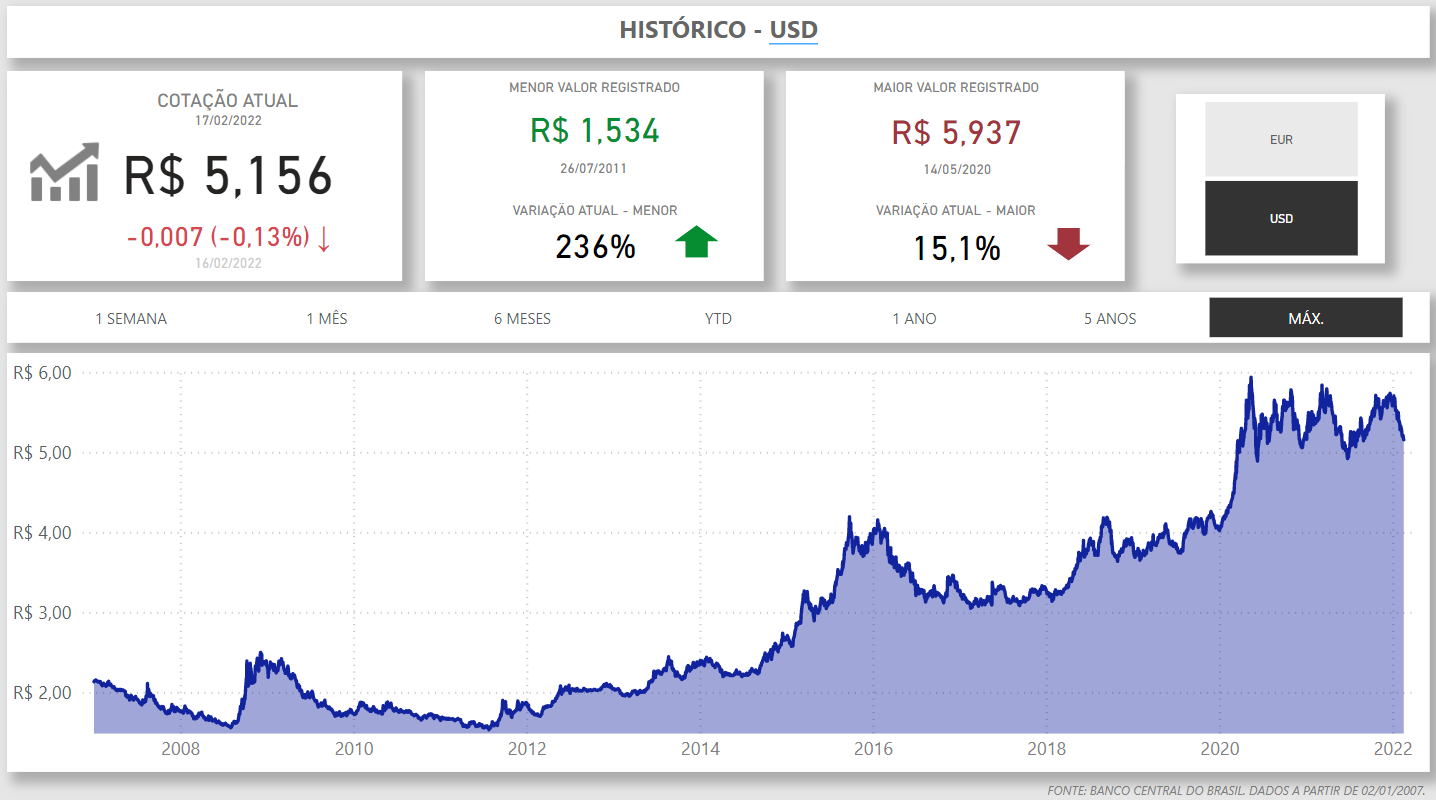

The page's visual inventory and layout, read from the dashboard file:
{"tool":"powerbi","page":{"name":"Cotação","canvas":[1280,720],"ordinal":0},"visuals":[{"type":"shape","box":[9.7,70,350,186],"z":0,"group":"g3"},{"type":"group","id":"g1","title":"Grupo 1","box":[380,70,300,185.5],"z":0,"group":"g4"},{"type":"shape","box":[380,70,300,185.5],"z":0,"group":"g1"},{"type":"group","id":"g2","title":"Grupo 2","box":[700,70,300,186],"z":0,"group":"g5"},{"type":"shape","box":[700,70,300,186],"z":0,"group":"g2"},{"type":"textbox","box":[899.8,692.5,371.1,27.5],"z":0},{"type":"textbox","box":[9.7,12.4,1260.2,46.1],"z":1000},{"type":"card","title":"MENOR VALOR REGISTRADO","fields":{"Values":["ftDotacaoUSD.Valor_minimo"]},"box":[382.7,78,295,71.7],"z":1000,"group":"g1"},{"type":"card","title":"MAIOR VALOR REGISTRADO","fields":{"Values":["ftDotacaoUSD.Valor_maximo"]},"box":[701.3,78,297.6,75.3],"z":1000,"group":"g2"},{"type":"card","title":"COTAÇÃO ATUAL","fields":{"Values":["ftDotacaoUSD.Valor_atual"]},"box":[53.3,86,304.6,121.3],"z":1000,"group":"g3"},{"type":"shape","box":[600.8,206.3,39.9,29.2],"z":1000,"group":"g4"},{"type":"shape","box":[929.8,209,39.9,29.2],"z":1000,"group":"g5"},{"type":"group","id":"g3","title":"Grupo 3","box":[9.7,70,350,186],"z":2000},{"type":"card","fields":{"Values":["ftDotacaoUSD.Data_valor_minimo"]},"box":[385.3,139.1,288.3,37.2],"z":2000,"group":"g1"},{"type":"card","fields":{"Values":["Medidas.Variacao_dia_anterior"]},"box":[53.1,186.9,304.6,58.5],"z":2000,"group":"g3"},{"type":"card","title":"VARIAÇÃO ATUAL - MAIOR","fields":{"Values":["ftDotacaoUSD.Variacao_max_atual"]},"box":[703.8,186.9,293.6,62],"z":2000,"group":"g2"},{"type":"group","id":"g4","title":"Grupo 4","box":[380,70,300,186],"z":3000},{"type":"card","fields":{"Values":["ftCotacaoUSD.Data_valor_maximo"]},"box":[704,140.8,293.6,34.5],"z":3000,"group":"g2"},{"type":"card","title":"VARIAÇÃO ATUAL - MENOR","fields":{"Values":["ftDotacaoUSD.Variacao_atual_min"]},"box":[381.4,186.9,297.6,59.3],"z":3000,"group":"g1"},{"type":"group","id":"g5","title":"Grupo 5","box":[700,70,300,186],"z":4000},{"type":"slicer","fields":{"Values":["Periodos.Periodo"]},"box":[9.7,265.7,1260.2,45.2],"z":5000},{"type":"areaChart","title":"EVOLUÇÃO DO DÓLAR AMERICANO","fields":{"Y":["Sum(ftCotacao.Valor)"],"Category":["dimCalendario.Data.Variation.Hierarquia de datas.Ano","dimCalendario.Data.Variation.Hierarquia de datas.Trimestre","dimCalendario.Data.Variation.Hierarquia de datas.Mês","dimCalendario.Data.Variation.Hierarquia de datas.Dia"]},"box":[9.7,319.7,1260.2,371.1],"z":6000},{"type":"image","box":[22.1,112.5,77,93.9],"z":7000},{"type":"card","fields":{"Values":["Medidas.Data_atual"]},"box":[53,98.2,304.5,34.4],"z":8000},{"type":"card","fields":{"Values":["Medidas.Data_anterior"]},"box":[53,227.9,304.5,24.6],"z":9000},{"type":"slicer","title":"MOEDA","fields":{"Values":["ftCotacao.Ticker"]},"box":[1045,90.4,184.7,150.3],"z":10000}]}

Visuals, with their boxes in screenshot pixels (x1, y1, x2, y2), scaled from the page's 1280x720 canvas onto the 1436x800 screenshot:
shape: [11, 78, 404, 284]
"Grupo 1" group: [426, 78, 763, 284]
shape: [426, 78, 763, 284]
"Grupo 2" group: [785, 78, 1122, 284]
shape: [785, 78, 1122, 284]
textbox: [1009, 769, 1426, 799]
textbox: [11, 14, 1425, 65]
"MENOR VALOR REGISTRADO" card: [429, 87, 760, 166]
"MAIOR VALOR REGISTRADO" card: [787, 87, 1121, 170]
"COTAÇÃO ATUAL" card: [60, 96, 402, 230]
shape: [674, 229, 719, 262]
shape: [1043, 232, 1088, 265]
"Grupo 3" group: [11, 78, 404, 284]
card - ftDotacaoUSD.Data_valor_minimo: [432, 155, 756, 196]
card - Medidas.Variacao_dia_anterior: [60, 208, 401, 273]
"VARIAÇÃO ATUAL - MAIOR" card: [790, 208, 1119, 277]
"Grupo 4" group: [426, 78, 763, 284]
card - ftCotacaoUSD.Data_valor_maximo: [790, 156, 1119, 195]
"VARIAÇÃO ATUAL - MENOR" card: [428, 208, 762, 274]
"Grupo 5" group: [785, 78, 1122, 284]
slicer - Periodos.Periodo: [11, 295, 1425, 345]
"EVOLUÇÃO DO DÓLAR AMERICANO" areaChart: [11, 355, 1425, 768]
image: [25, 125, 111, 229]
card - Medidas.Data_atual: [59, 109, 401, 147]
card - Medidas.Data_anterior: [59, 253, 401, 281]
"MOEDA" slicer: [1172, 100, 1380, 267]
